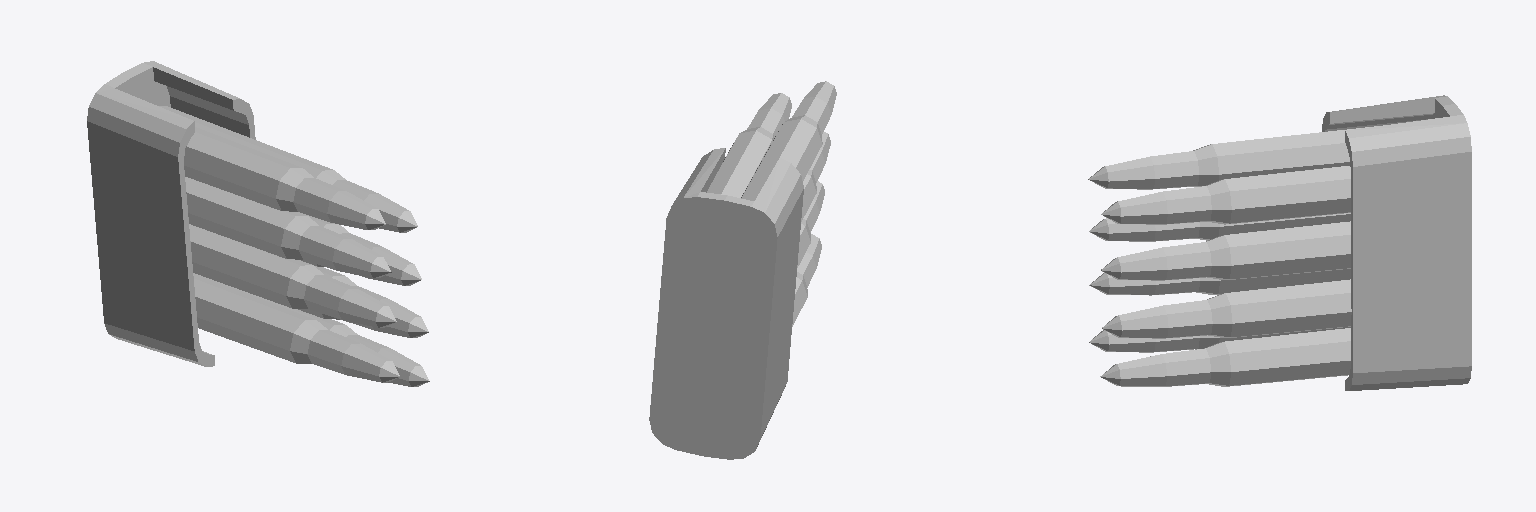
File: RangerHelmMag.obj
3 renders of one model, left to right at view 1: azimuth 30°, elevation 25°; view 2: azimuth 150°, elevation 25°; view 3: azimuth 270°, elevation 25°, orthographic.
Visible parts, largest first — view 1: Stealth_Helmet:0.00; view 2: Stealth_Helmet:0.00; view 3: Stealth_Helmet:0.00.
Part boxes in pixels (x1,y1,x2,y2): Stealth_Helmet:0.00: (87, 61, 429, 386); Stealth_Helmet:0.00: (649, 81, 836, 459); Stealth_Helmet:0.00: (1088, 95, 1471, 390).
Bounding box in the file's own units: 2.84 × 3.98 × 5.28.